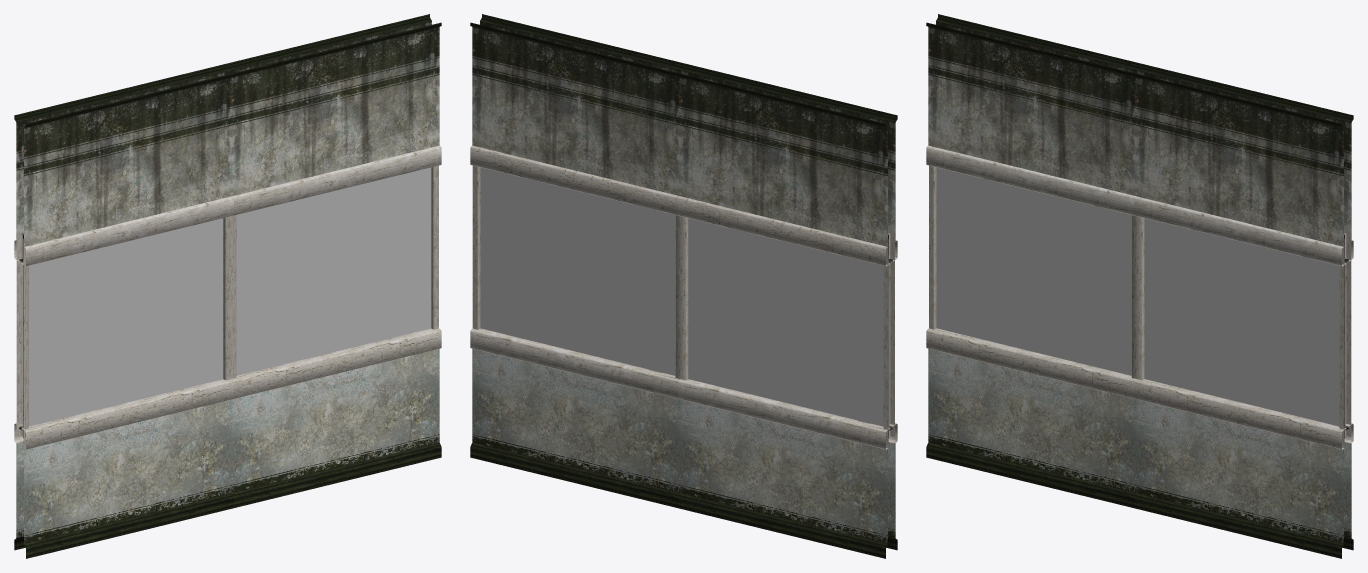
File: waitingroom_reception_damaged_flat.dae
3 views of the same model, side by side, from view 1: azimuth 30°, elevation 25°; view 2: azimuth 150°, elevation 25°; view 3: azimuth 330°, elevation 25° (orthographic).
Parts seen in each view (by area): view 1: polySurface185, polySurface186; view 2: polySurface185, polySurface186; view 3: polySurface185, polySurface186.
Part boxes in pixels (left/top/right/bottom): polySurface185: left=14, top=14, right=441, bottom=558; polySurface186: left=22, top=167, right=431, bottom=427; polySurface185: left=470, top=14, right=897, bottom=558; polySurface186: left=480, top=167, right=889, bottom=427; polySurface185: left=926, top=14, right=1353, bottom=558; polySurface186: left=936, top=167, right=1345, bottom=427.
Bounding box in the file's own units: 4 × 4 × 0.1933.
